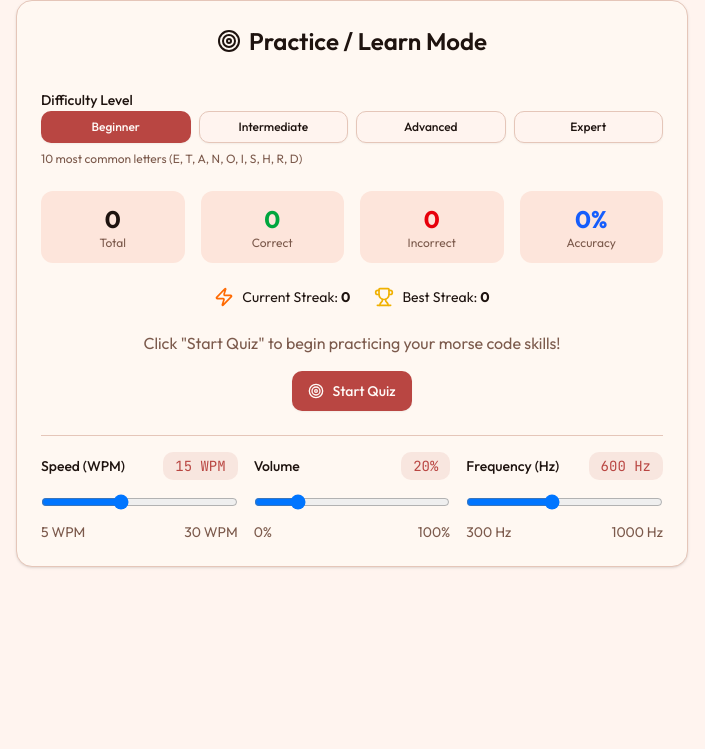
Test: PracticeQuiz › starts a quiz and shows question when Start Quiz is clicked
Click the button "Start Quiz": click(352, 391) x1=292 y1=371 x2=412 y2=411
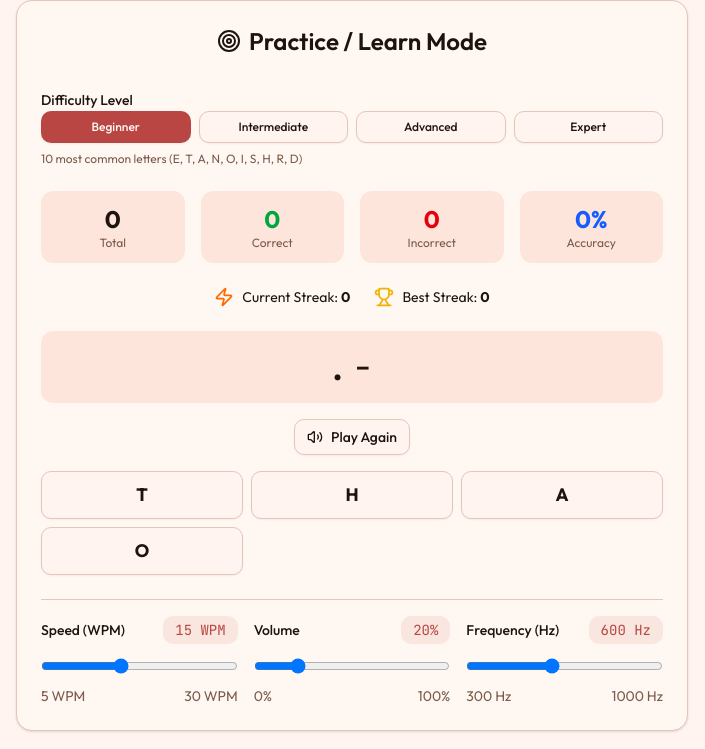
Check: the button "Play Again" is shown, box x1=294 y1=419 x2=410 y2=455
